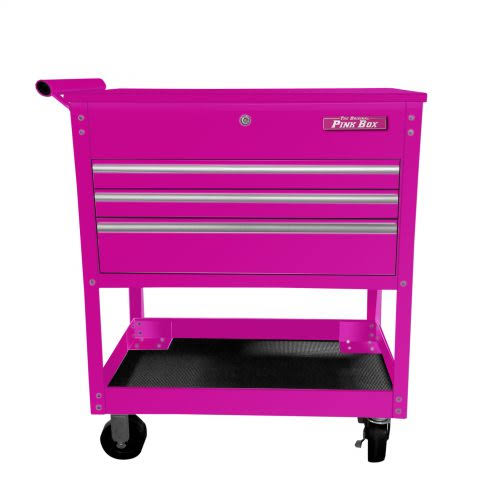Carts: (33, 76, 435, 467)
